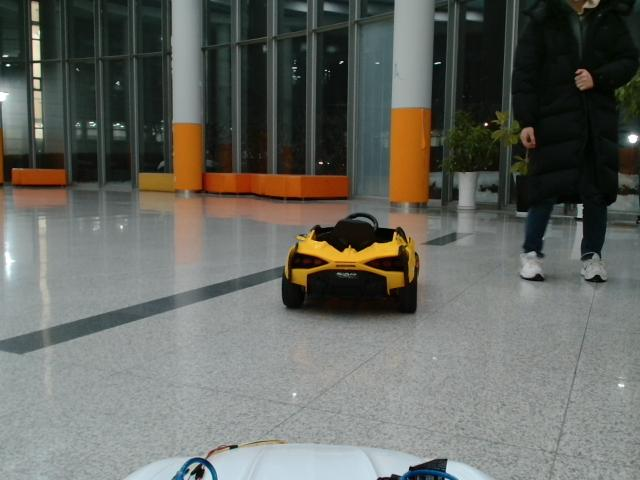car: (281, 212, 420, 313)
